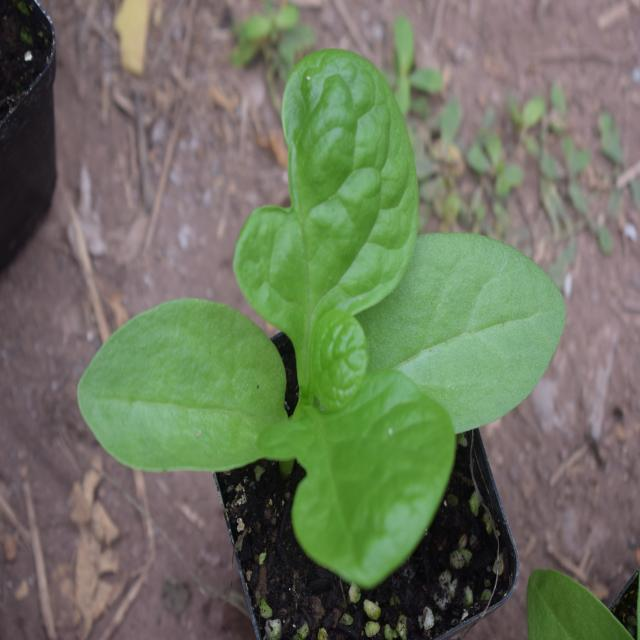Ceylon spinach: (88, 62, 548, 582)
